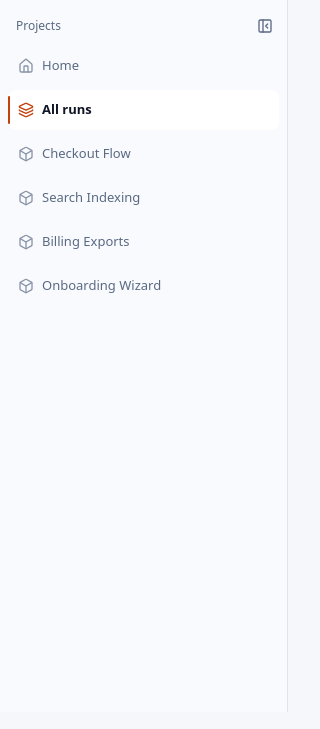
Test case: ProjectRail collapse › keeps every row’s accessible name and textContent identical when collapsed
expect the link "Billing Exports" is shown: met, box [18,232,130,250]
Click the button named "Collapse the projects rail". click: (265, 26)
box: [251,12,279,40]
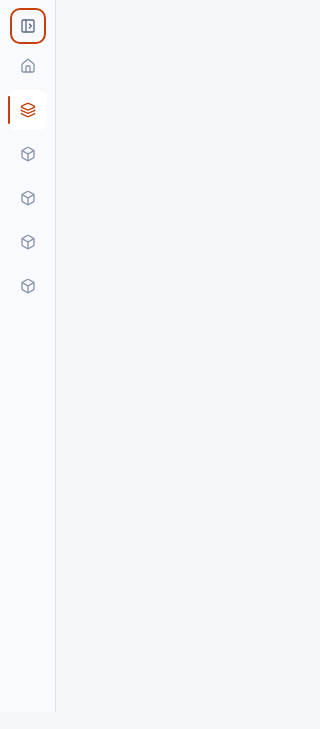
expect the button named "Expand the projects rail" is shown: met, box [14,12,42,40]
